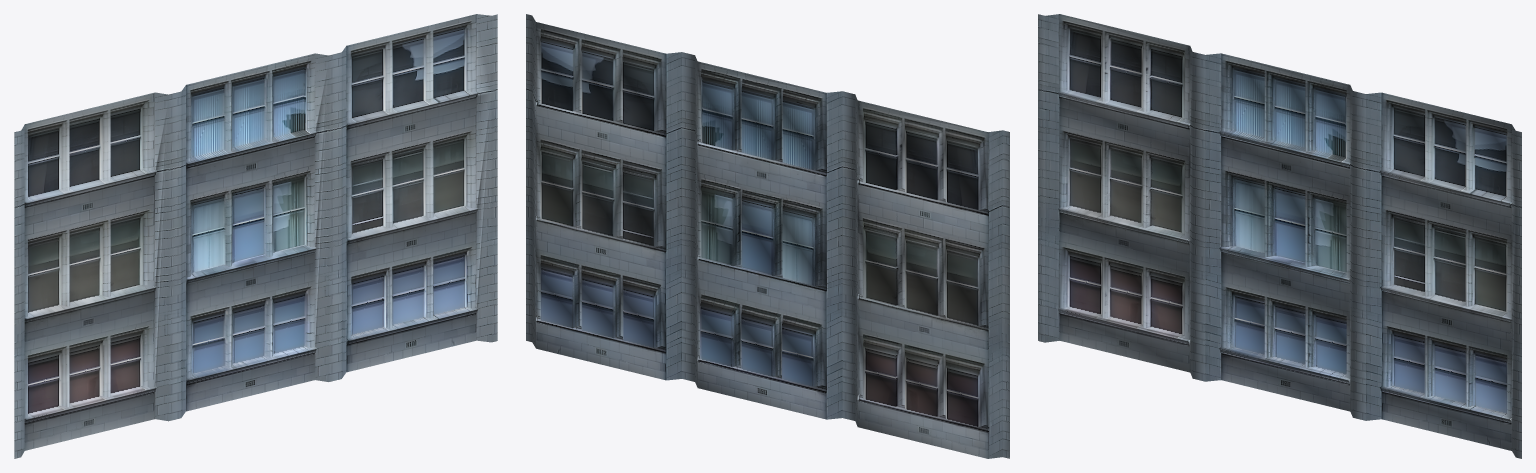
The model's file is building_l2.obj.
3 renders of one model, left to right at view 1: azimuth 30°, elevation 25°; view 2: azimuth 150°, elevation 25°; view 3: azimuth 330°, elevation 25°, orthographic.
Parts seen in each view (by area): view 1: building_l2; view 2: building_l2; view 3: building_l2.
Part boxes in pixels (box(x1,y1,x2,y2)): building_l2: box(14, 14, 497, 458); building_l2: box(526, 14, 1009, 458); building_l2: box(1038, 14, 1521, 458).
Size of the model in its own units: 5 by 3.23 by 0.1611.
